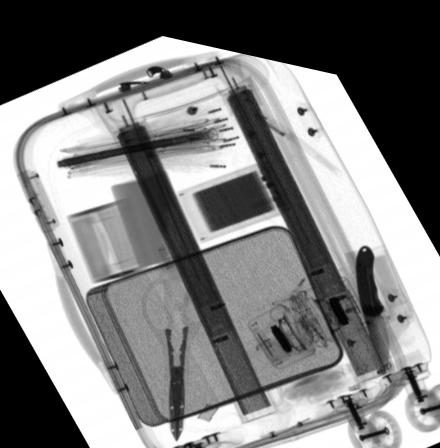Knife: (354, 226, 391, 352)
Powerbank: (167, 147, 291, 237)
Scissors: (137, 263, 219, 436)
